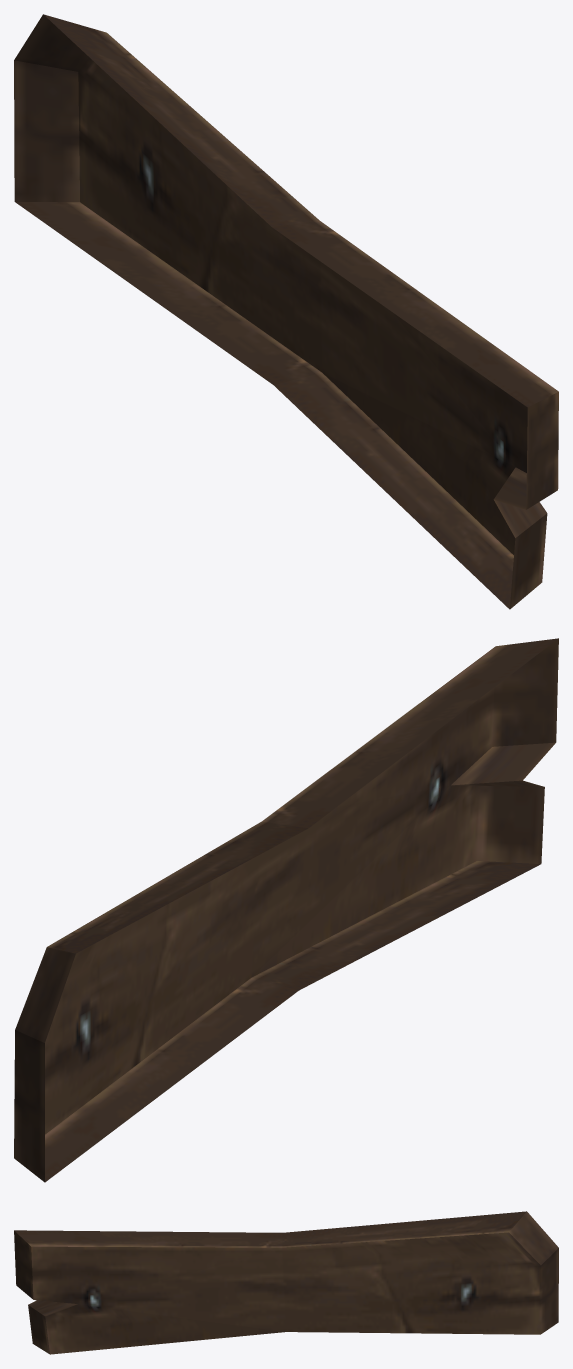
Rendered from 6002_Item_muban_1.FBX.
The picture shows the model from 3 angles, top to bottom: view 1: azimuth 30°, elevation 25°; view 2: azimuth 150°, elevation 25°; view 3: azimuth 270°, elevation 25°; orthographic projection. The views are drawn at different scales.
Visible parts, largest first — view 1: 6002_Item_muban_1; view 2: 6002_Item_muban_1; view 3: 6002_Item_muban_1.
Boxes of the visible parts, x1,y1,x2,y2 form: 6002_Item_muban_1: (14,14,558,609); 6002_Item_muban_1: (14,638,558,1182); 6002_Item_muban_1: (14,1211,558,1354).
Bounding box in the file's own units: 14.32 × 63.57 × 236.
